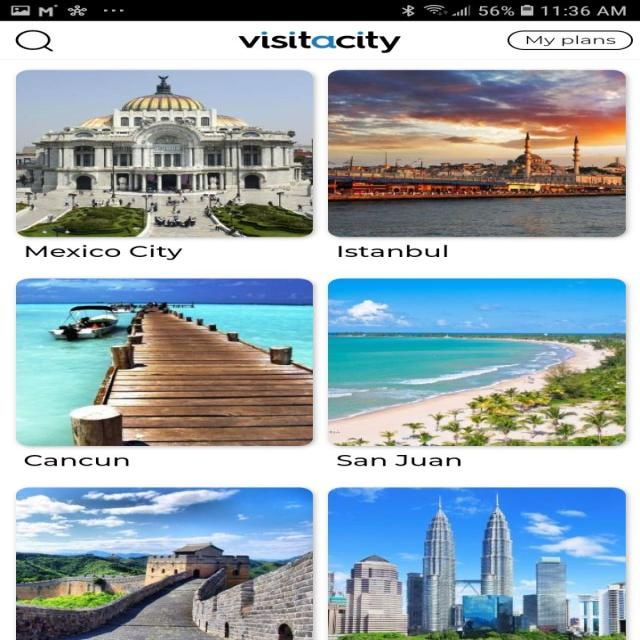Icon: (15, 30, 54, 52)
Image: (327, 278, 626, 446), (16, 278, 313, 446), (327, 70, 625, 237), (15, 70, 313, 237), (327, 486, 626, 640), (15, 487, 313, 639), (238, 31, 401, 53)
Text: (25, 244, 183, 260), (336, 454, 460, 466), (338, 245, 448, 257), (24, 454, 129, 466)
TextButton: (506, 30, 632, 50)
